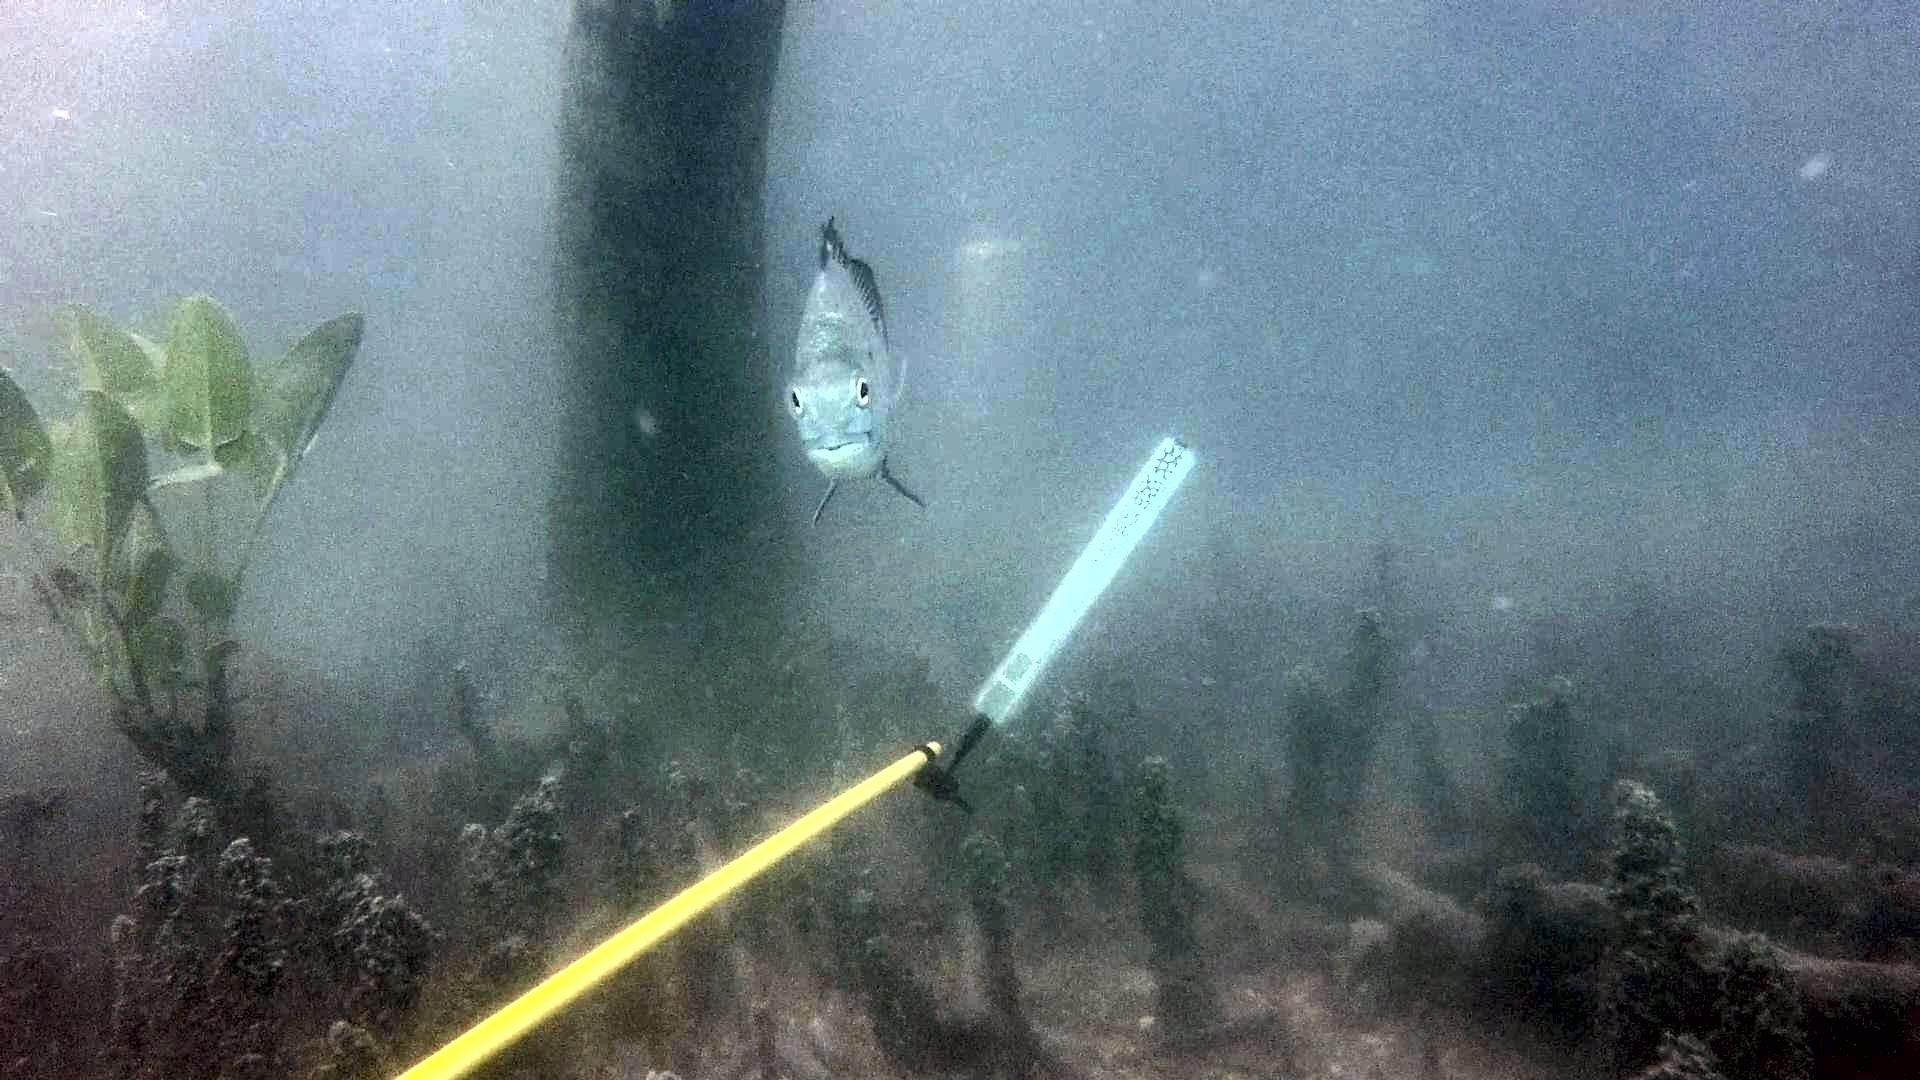acanthopagrus palmaris: (770, 206, 948, 537)
